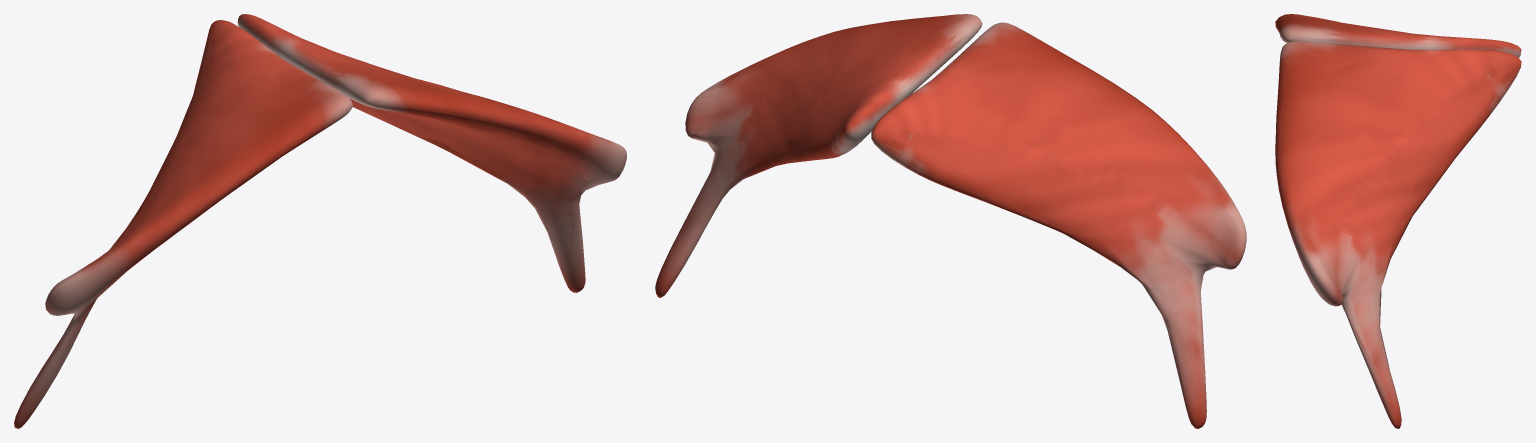
Rendered from pectoralis superficialis.fbx.
3 renders of one model, left to right at view 1: azimuth 30°, elevation 25°; view 2: azimuth 150°, elevation 25°; view 3: azimuth 270°, elevation 25°, orthographic. The views are drawn at different scales.
Visible parts, largest first — view 1: pectoralis superficialis, pectoralis superficialis low; view 2: pectoralis superficialis, pectoralis superficialis low; view 3: pectoralis superficialis, pectoralis superficialis low.
Boxes of the visible parts, bbox=[...] form: pectoralis superficialis: bbox=[14, 14, 626, 428]; pectoralis superficialis low: bbox=[32, 15, 618, 385]; pectoralis superficialis: bbox=[655, 14, 1246, 428]; pectoralis superficialis low: bbox=[657, 21, 1243, 427]; pectoralis superficialis: bbox=[1275, 14, 1521, 428]; pectoralis superficialis low: bbox=[1275, 15, 1517, 422].
Size of the model in its own units: 17.58 by 9.08 by 7.4.
